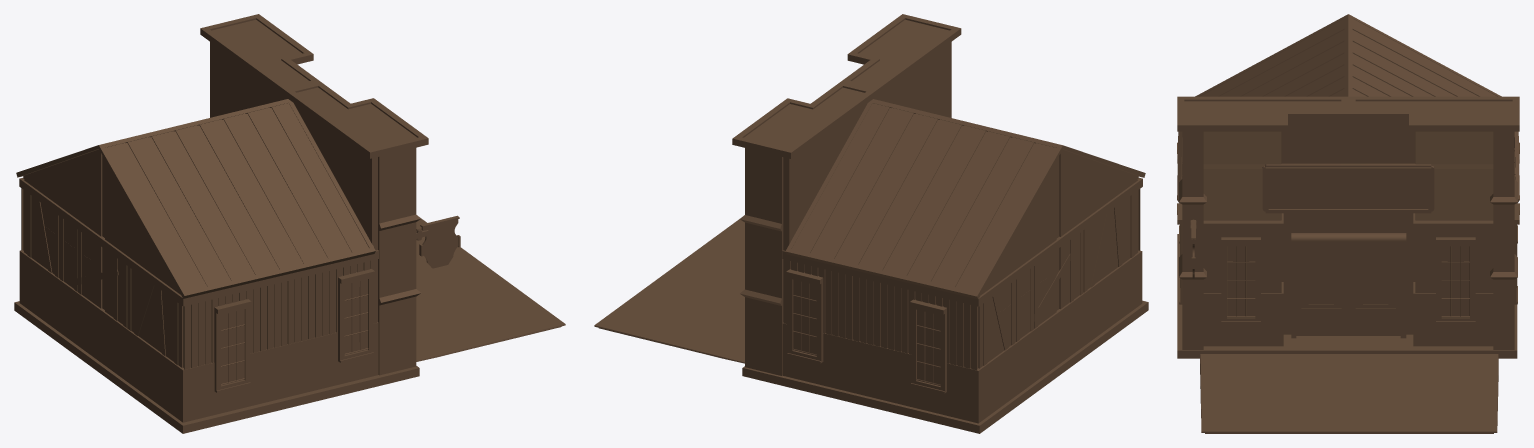
The model's file is gunstore_building.fbx.
The picture shows the model from 3 angles, left to right: view 1: azimuth 30°, elevation 25°; view 2: azimuth 150°, elevation 25°; view 3: azimuth 270°, elevation 25°; orthographic projection.
Parts seen in each view (by area): view 1: hunstore_build; view 2: hunstore_build; view 3: hunstore_build.
Part boxes in pixels (x1,y1,x2,y2): hunstore_build: [14, 14, 565, 433]; hunstore_build: [594, 14, 1148, 433]; hunstore_build: [1177, 14, 1519, 433].
Size of the model in its own units: 22.24 by 12.69 by 16.59.
